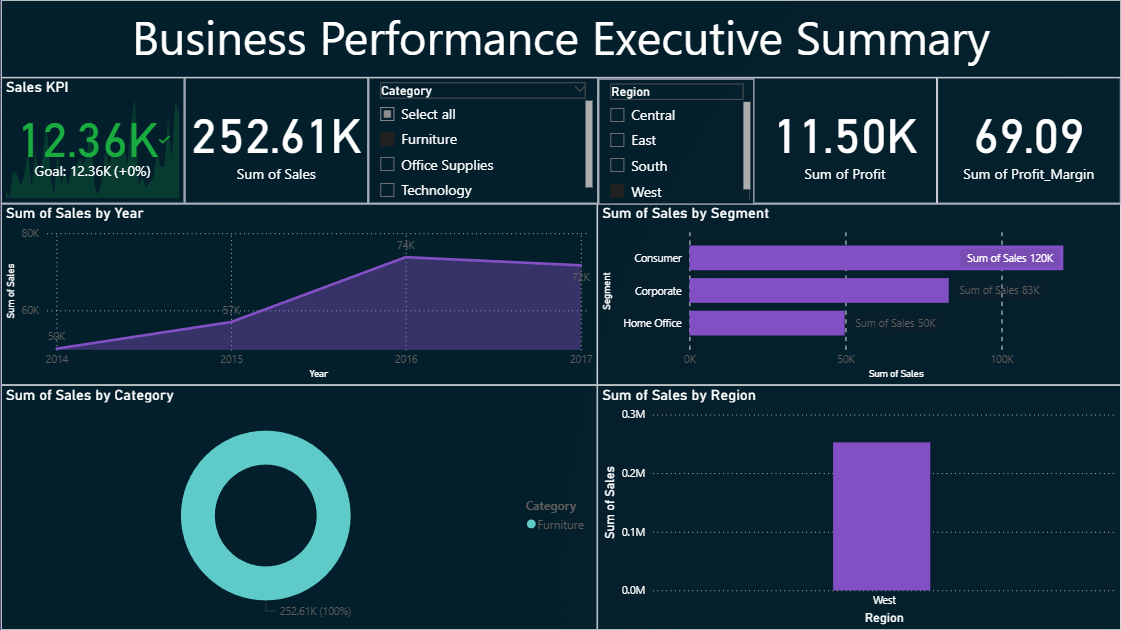

What the dashboard file says about the page in this screenshot:
{"tool":"powerbi","page":{"name":"Page 1","canvas":[1280,720],"ordinal":0},"visuals":[{"type":"lineChart","fields":{"Category":["Superstore_clean.MonthYear.Variation.Date Hierarchy.Year","Superstore_clean.MonthYear.Variation.Date Hierarchy.Quarter","Superstore_clean.MonthYear.Variation.Date Hierarchy.Month","Superstore_clean.MonthYear.Variation.Date Hierarchy.Day"],"Y":["Sum(Superstore_clean.Sales)"]},"box":[0,233.3,682,207.2],"z":0},{"type":"clusteredColumnChart","fields":{"Category":["Superstore_clean.Region"],"Y":["Sum(Superstore_clean.Sales)"]},"box":[682,440.5,598.3,279.9],"z":1000},{"type":"donutChart","fields":{"Category":["Superstore_clean.Category"],"Y":["Sum(Superstore_clean.Sales)"]},"box":[0,440.5,682,279.9],"z":2000},{"type":"kpi","title":"Sales KPI","fields":{"Indicator":["Sum(Superstore_clean.Sales)"],"TrendLine":["Superstore_clean.YearMonth"],"Goal":["Sum(Superstore_clean.Sales)"]},"box":[0,89.2,209.9,144.1],"z":3000},{"type":"slicer","fields":{"Values":["Superstore_clean.Region"]},"box":[682.9,89.6,179.1,144.3],"z":4000},{"type":"slicer","fields":{"Values":["Superstore_clean.Category"]},"box":[419.9,89.2,262.1,144.1],"z":5000},{"type":"card","fields":{"Values":["Sum(Superstore_clean.Sales)"]},"box":[209.9,89.2,209.9,144.1],"z":6000},{"type":"card","fields":{"Values":["Sum(Superstore_clean.Profit)"]},"box":[860.4,89.2,209.9,144.1],"z":7000},{"type":"card","fields":{"Values":["Sum(Superstore_clean.Profit_Margin)"]},"box":[1070.3,89.2,209.9,144.1],"z":8000},{"type":"clusteredBarChart","fields":{"Category":["Superstore_clean.Segment"],"Y":["Sum(Superstore_clean.Sales)"]},"box":[682,233.3,598.3,207.2],"z":9000},{"type":"textbox","box":[0,0,1280.3,89.2],"z":10000}]}

Visuals, with their boxes in screenshot pixels (x1, y1, x2, y2), scaled from the page's 1280x720 canvas onto the 1121x630 screenshot:
lineChart - Superstore_clean.MonthYear.Variation.Date Hierarchy.Year x Superstore_clean.MonthYear.Variation.Date Hierarchy.Quarter: l=0, t=204, r=597, b=385
clusteredColumnChart - Superstore_clean.Region x Sum(Superstore_clean.Sales): l=597, t=385, r=1120, b=629
donutChart - Superstore_clean.Category x Sum(Superstore_clean.Sales): l=0, t=385, r=597, b=629
"Sales KPI" kpi: l=0, t=78, r=184, b=204
slicer - Superstore_clean.Region: l=598, t=78, r=755, b=205
slicer - Superstore_clean.Category: l=368, t=78, r=597, b=204
card - Sum(Superstore_clean.Sales): l=184, t=78, r=368, b=204
card - Sum(Superstore_clean.Profit): l=754, t=78, r=937, b=204
card - Sum(Superstore_clean.Profit_Margin): l=937, t=78, r=1120, b=204
clusteredBarChart - Superstore_clean.Segment x Sum(Superstore_clean.Sales): l=597, t=204, r=1120, b=385
textbox: l=0, t=0, r=1120, b=78
